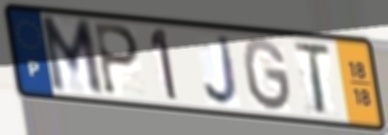1: (147, 26, 182, 103)
G: (240, 35, 295, 115)
J: (202, 32, 242, 109)
M: (37, 14, 107, 100)
P: (92, 20, 142, 99)
T: (289, 40, 334, 118)
